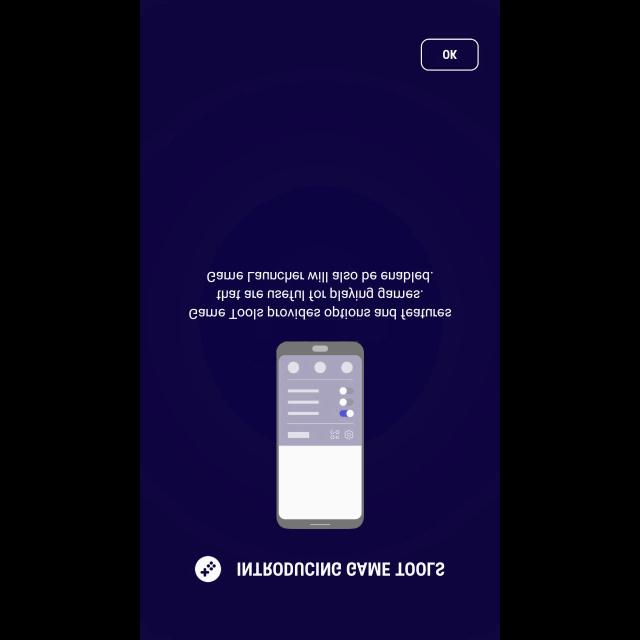backgroundimage: (140, 1, 500, 640)
image: (276, 341, 364, 529), (194, 554, 222, 582)
text: (189, 272, 451, 321), (238, 562, 444, 576)
textbutton: (420, 38, 480, 70)
